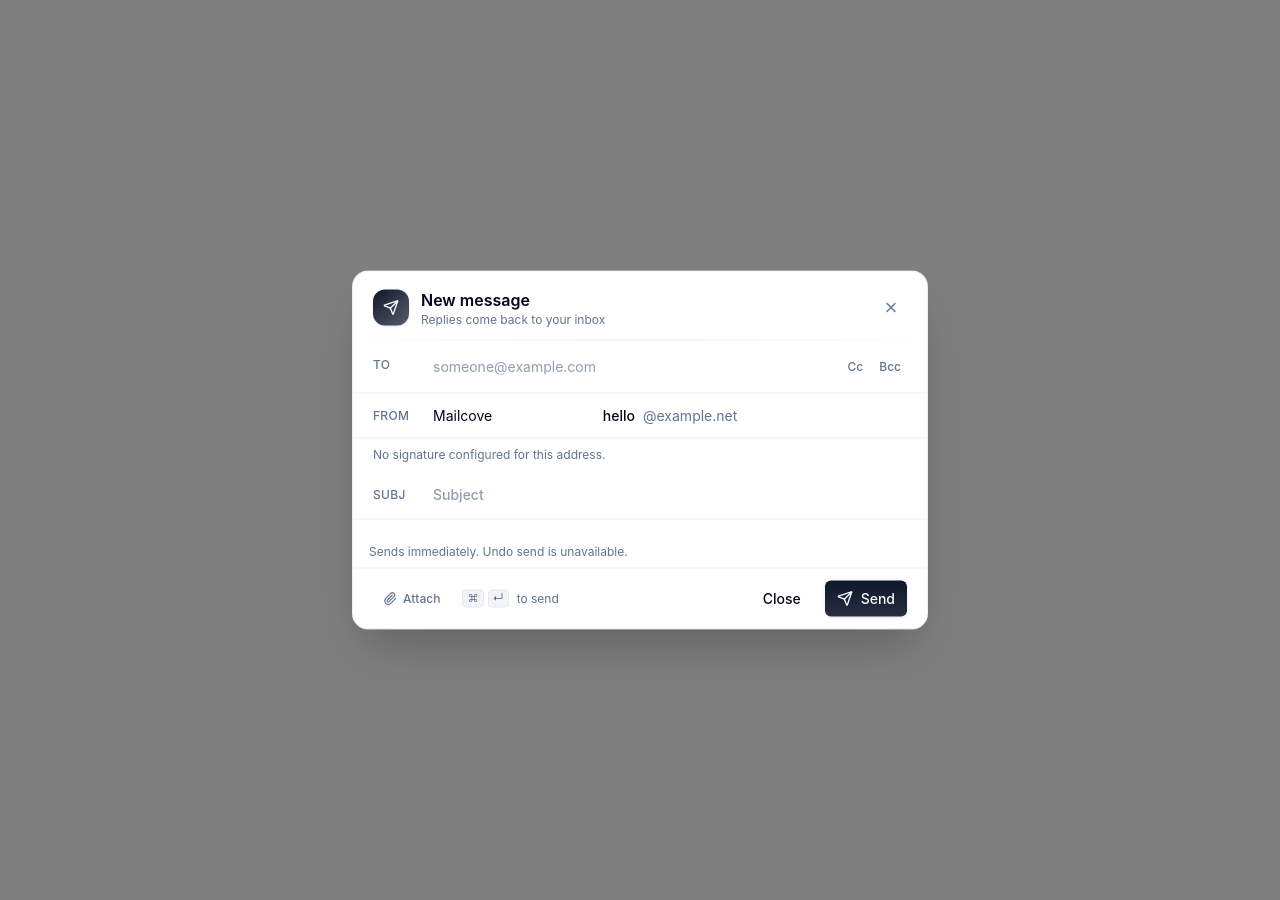
Test case: Compose From name (sending profile) › prefills the From name from the identity's profile and tracks the picked domain
Check: the field named "From name" holds "Mailcove", box [433,406,543,426]
Select "@example.com" in the dropdown named "From domain" at [694, 416], box [643,406,745,426]
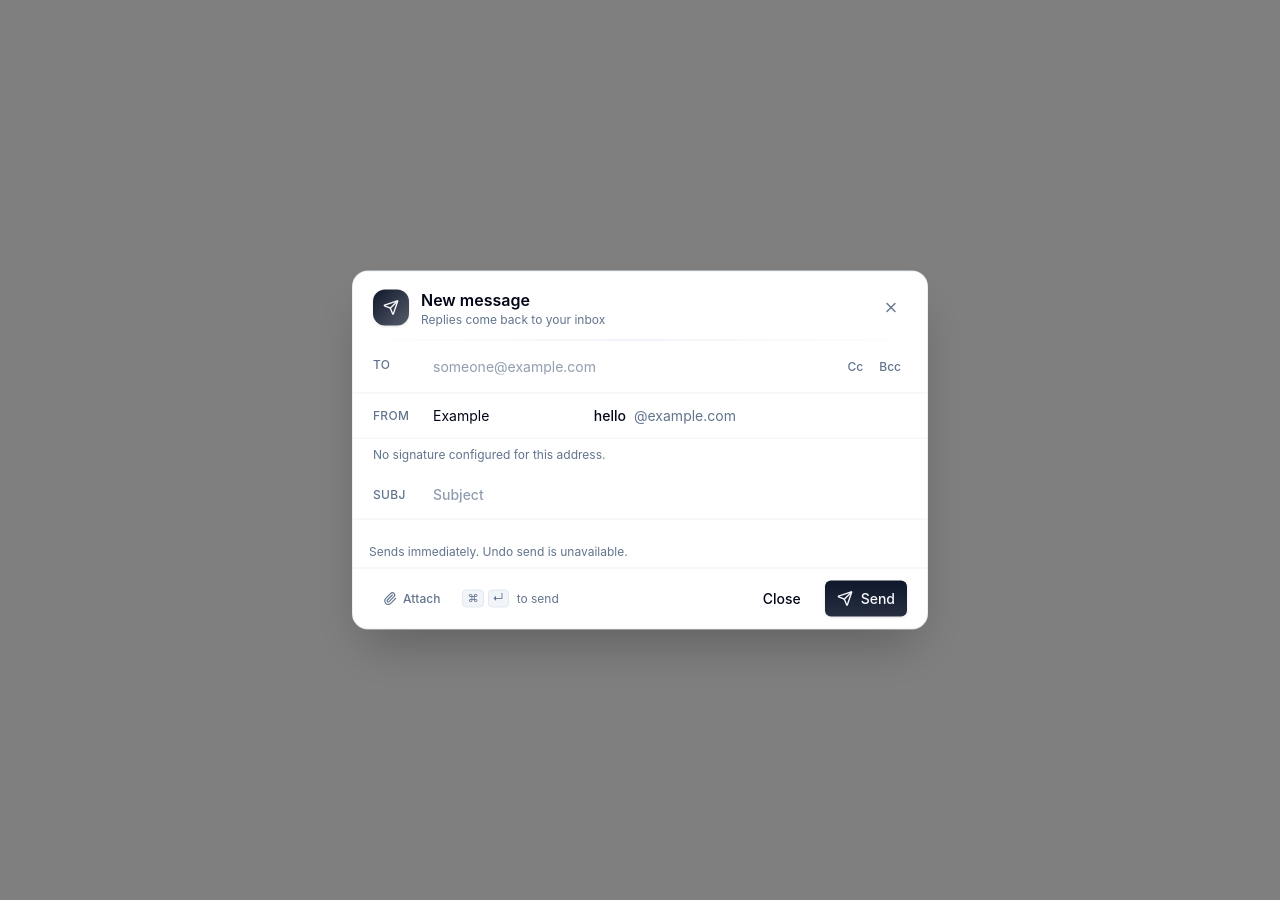
Check: the field named "From name" holds "Example", box [433,406,534,426]
